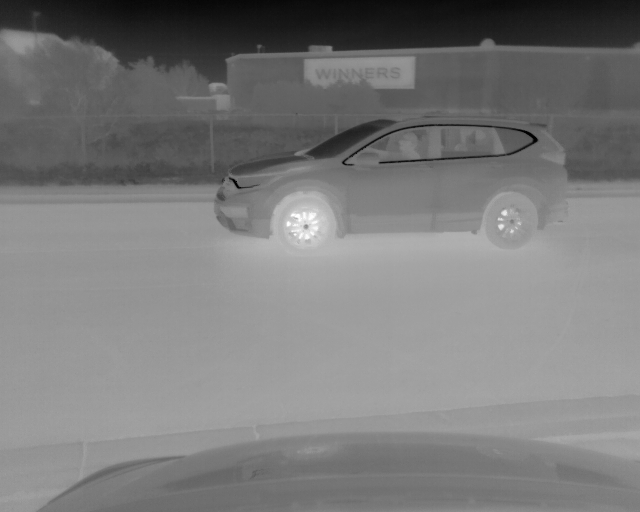car: (213, 116, 570, 257)
